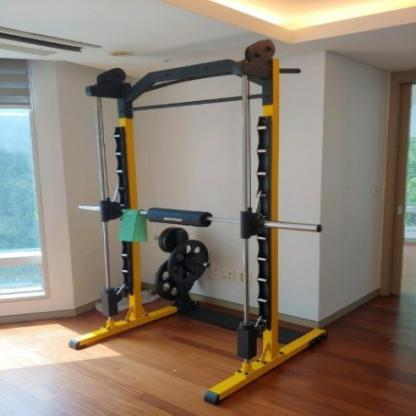smith machine: (87, 39, 330, 406)
